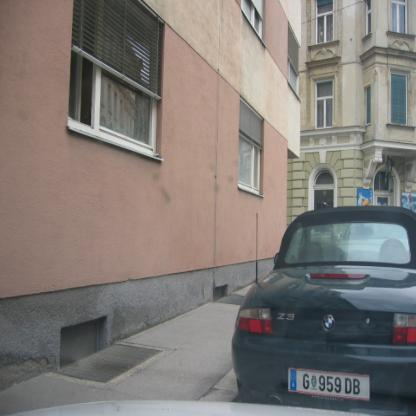car: (231, 203, 416, 413)
